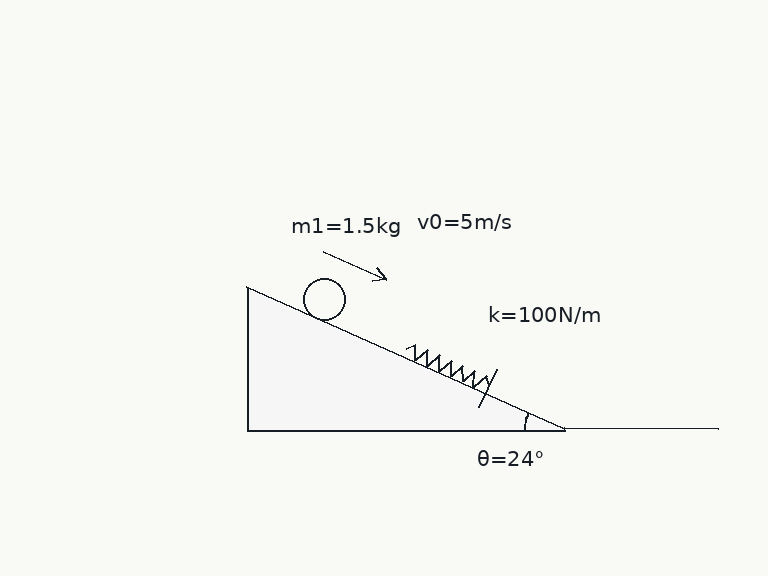ball: (301, 276, 347, 322)
ramp: (245, 285, 567, 431)
spring: (405, 343, 491, 389)
